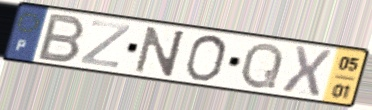B: (34, 12, 88, 65)
N: (132, 25, 188, 79)
O: (182, 34, 230, 83)
Q: (238, 41, 286, 90)
X: (279, 44, 335, 99)
Z: (77, 18, 134, 70)
